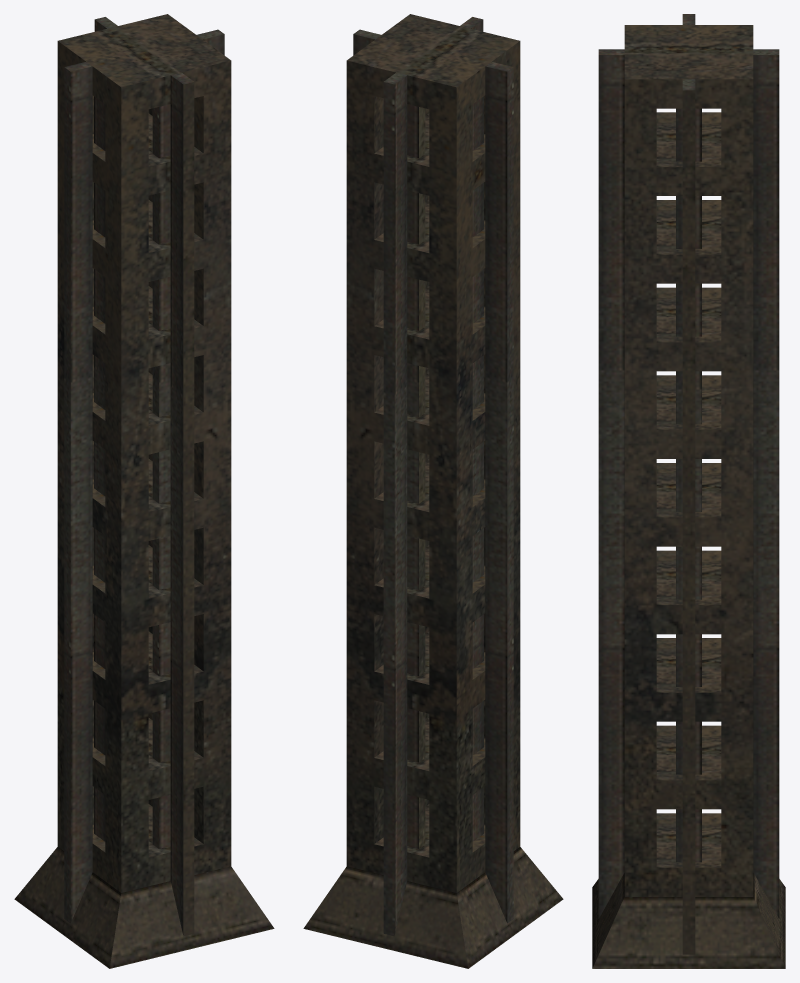
The model's file is pillar_rgx_3.obj.
3 renders of one model, left to right at view 1: azimuth 30°, elevation 25°; view 2: azimuth 150°, elevation 25°; view 3: azimuth 270°, elevation 25°, orthographic.
Visible parts, largest first — view 1: pillar_rgx_3; view 2: pillar_rgx_3; view 3: pillar_rgx_3.
Part boxes in pixels (x1,y1,x2,y2): pillar_rgx_3: (14, 14, 274, 968); pillar_rgx_3: (303, 14, 563, 968); pillar_rgx_3: (592, 14, 785, 968).
Bounding box in the file's own units: 0.6 × 3 × 0.6.
